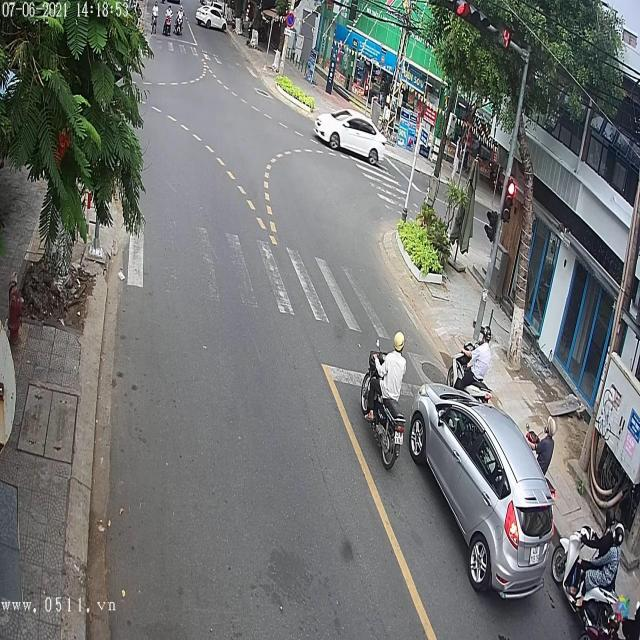car: (407, 383, 560, 601), (314, 111, 388, 165), (195, 7, 226, 30)
motorcycle: (361, 343, 405, 472), (162, 10, 173, 38)
